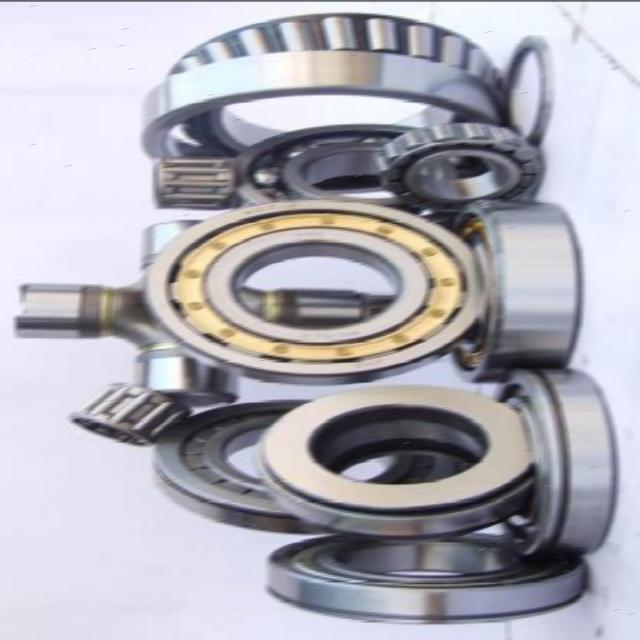Bearing: (141, 198, 485, 384), (138, 14, 507, 156), (252, 384, 538, 538), (264, 533, 588, 628), (148, 396, 329, 536), (490, 366, 617, 560), (452, 197, 582, 384), (232, 122, 430, 216), (376, 121, 544, 211), (68, 380, 192, 448), (149, 150, 237, 212)
